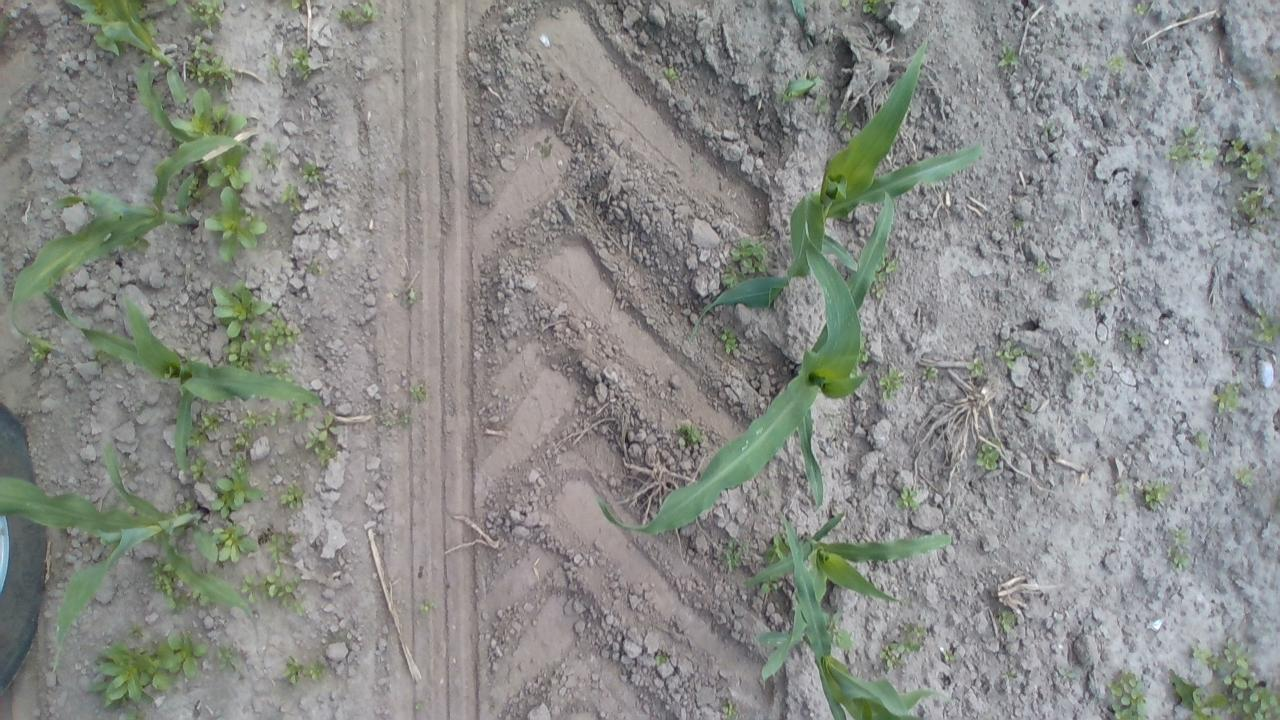Maize: (592, 190, 896, 535), (693, 33, 984, 339), (0, 436, 260, 675), (10, 134, 258, 362), (42, 289, 324, 482), (741, 509, 954, 682), (781, 515, 949, 720), (66, 0, 200, 141), (782, 78, 814, 109), (789, 0, 808, 35)
Weeds: (88, 632, 205, 708), (211, 278, 299, 378), (1191, 636, 1278, 720), (204, 184, 267, 264), (1168, 670, 1226, 720), (188, 34, 238, 88), (212, 469, 264, 519), (1166, 124, 1218, 170), (1106, 665, 1148, 720), (880, 620, 926, 670), (260, 574, 308, 618), (1228, 187, 1276, 225), (306, 415, 340, 468), (1226, 136, 1264, 178), (731, 234, 770, 274), (1210, 377, 1246, 415), (207, 160, 253, 188), (190, 409, 222, 449), (1166, 522, 1192, 570), (182, 0, 225, 29), (719, 537, 750, 575), (826, 608, 854, 650), (1140, 476, 1173, 510), (879, 364, 904, 407), (1251, 306, 1280, 342), (976, 434, 1004, 470), (149, 561, 177, 596), (994, 338, 1021, 374), (278, 182, 304, 218), (278, 481, 310, 510), (764, 528, 790, 562), (675, 421, 704, 448), (391, 286, 425, 309), (268, 533, 286, 576), (1072, 349, 1096, 381), (290, 47, 312, 80), (379, 407, 410, 430), (215, 643, 239, 672), (896, 485, 920, 512), (879, 254, 901, 283), (719, 326, 740, 356), (258, 142, 280, 170), (240, 570, 258, 604), (282, 654, 302, 684), (354, 0, 380, 23), (188, 456, 211, 481), (1191, 428, 1212, 455), (996, 44, 1019, 68), (166, 593, 190, 615), (1082, 286, 1104, 308), (1122, 328, 1144, 350), (302, 160, 324, 182), (27, 340, 49, 362), (302, 659, 326, 679), (531, 136, 555, 156), (997, 606, 1014, 634), (1262, 131, 1280, 157), (963, 356, 986, 376), (232, 430, 254, 450), (290, 402, 313, 421), (1114, 478, 1132, 502), (1106, 50, 1126, 71), (304, 256, 324, 277), (242, 408, 262, 428), (722, 268, 744, 286), (1077, 60, 1093, 84), (838, 106, 854, 130), (1235, 466, 1255, 485), (921, 364, 940, 384), (721, 698, 738, 720), (227, 460, 250, 476), (859, 0, 881, 16), (325, 630, 349, 644), (190, 177, 204, 201), (417, 599, 435, 617), (408, 383, 426, 401), (858, 335, 869, 363), (1057, 667, 1079, 681), (128, 622, 145, 640), (760, 580, 779, 596), (336, 8, 355, 24), (815, 96, 830, 116), (870, 283, 888, 299), (171, 500, 199, 510), (1036, 260, 1050, 278), (123, 708, 148, 718), (664, 68, 679, 84), (270, 406, 282, 426), (192, 592, 208, 606), (1004, 667, 1018, 682), (941, 648, 956, 662), (656, 650, 669, 666), (692, 160, 704, 177), (90, 350, 104, 364), (1132, 2, 1148, 14), (269, 55, 281, 71), (290, 0, 306, 11), (1108, 286, 1119, 300), (284, 532, 294, 546), (1270, 70, 1280, 82), (1043, 120, 1054, 130), (1011, 218, 1022, 227), (165, 0, 178, 7), (414, 700, 422, 710), (1021, 403, 1030, 411), (840, 0, 850, 6)
